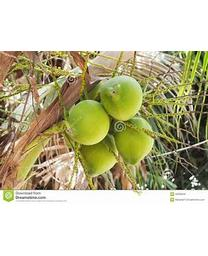coconut: (65, 99, 111, 146), (99, 75, 143, 121), (112, 117, 154, 164), (77, 132, 118, 176)
